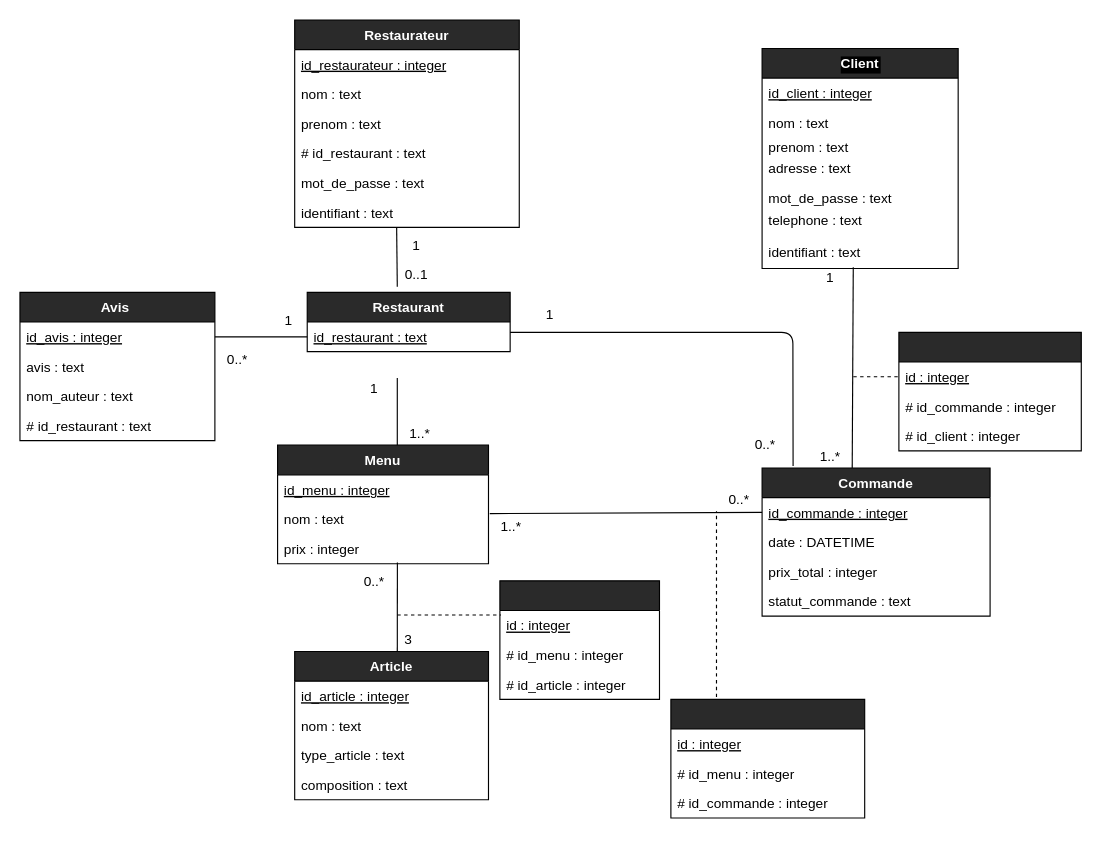
Image size: 1101x841. Some labels were removed from this diagram. The shapes that lost their labels are listed below. From the top down, each one's box as (x1, y1, x2, y2) in pixels, then its label:
(898, 331, 1081, 451): Table_client_commande
(499, 580, 659, 699): Table_menu_article
(670, 698, 865, 818): Table_menu_commande
